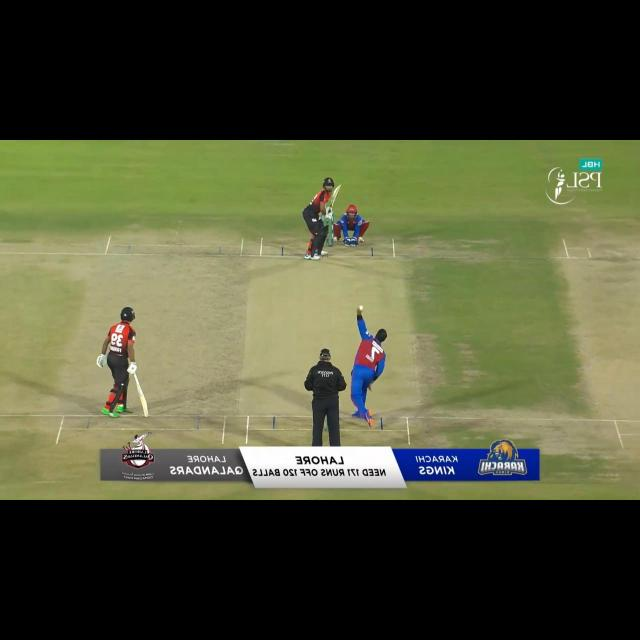bat: (132, 375, 149, 418), (328, 185, 341, 210)
toe: (335, 184, 342, 194), (143, 408, 149, 418)
